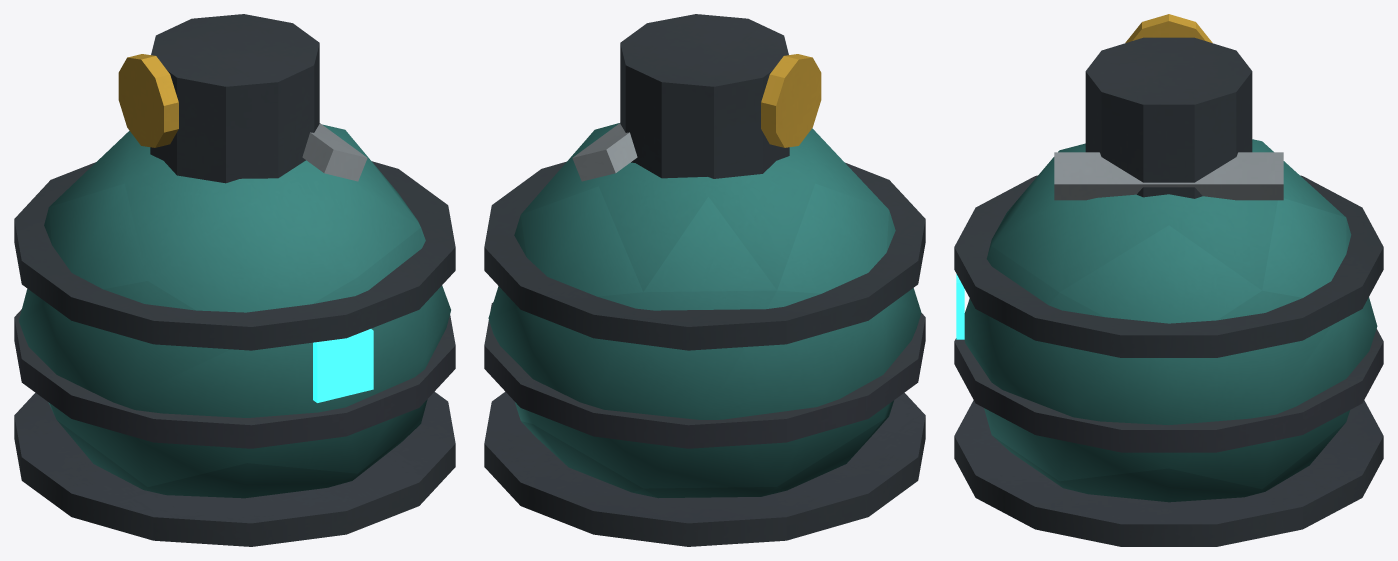
3 views of the same model, side by side, from view 1: azimuth 30°, elevation 25°; view 2: azimuth 150°, elevation 25°; view 3: azimuth 270°, elevation 25° (orthographic). The views are drawn at different scales.
Parts seen in each view (by area): view 1: grenade_metal, grenade_glow; view 2: grenade_metal; view 3: grenade_metal, grenade_glow.
Part boxes in pixels (x1,y1,x2,y2): grenade_metal: (14, 14, 455, 546); grenade_glow: (313, 329, 373, 402); grenade_metal: (484, 14, 925, 546); grenade_metal: (954, 14, 1383, 546); grenade_glow: (956, 274, 964, 339).
Size of the model in its own units: 0.2008 by 0.242 by 0.206.
2 materials, 1 textured.
